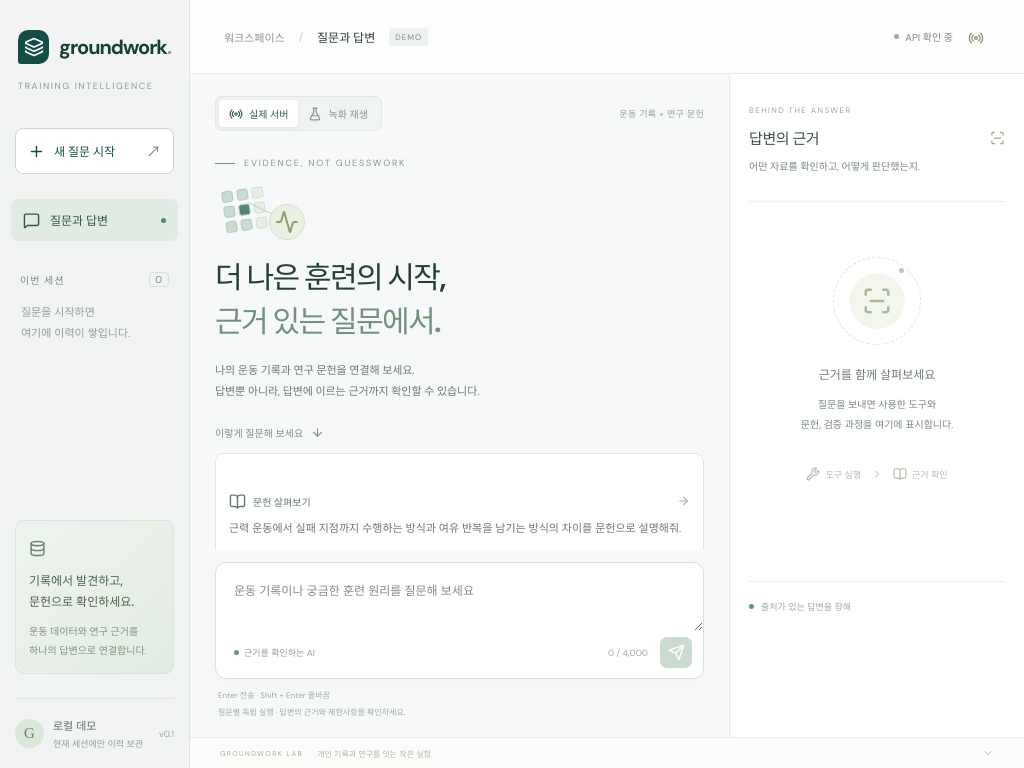
Test case: question and evidence experience › always sends query debug and presents actual response evidence without inferring parser source
Type "TEST: original question" into the text box named "질문 입력". click: x=460, y=597
box: [216,563,703,631]
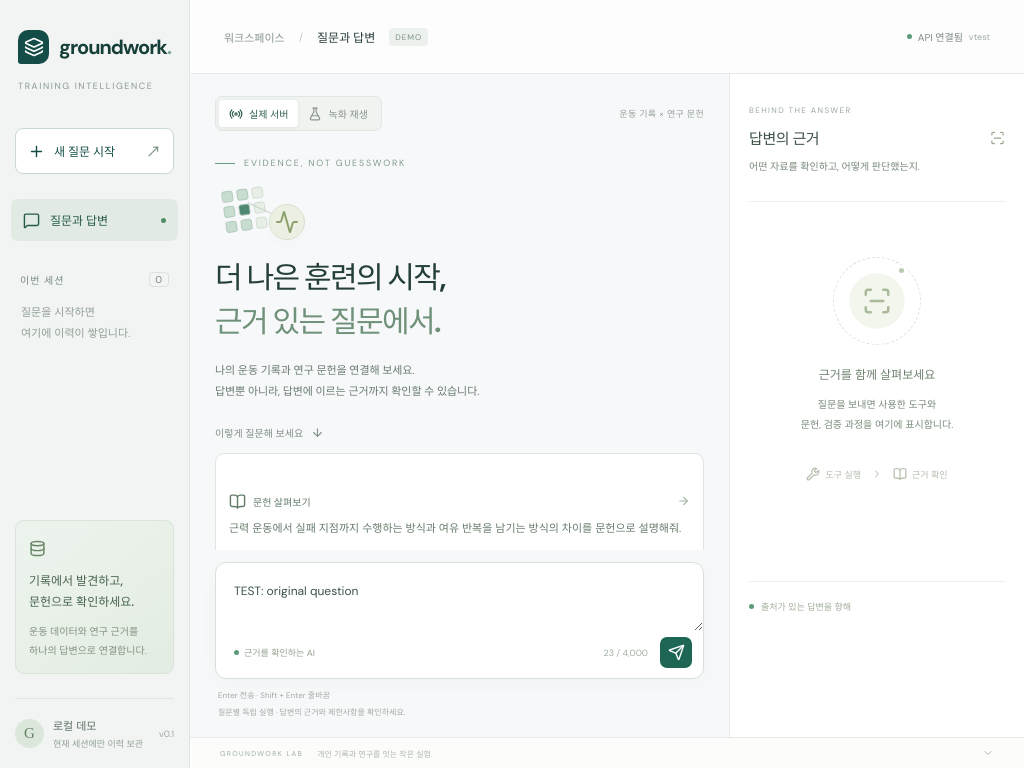
Click the button named "질문 보내기". click: x=676, y=653
box: [660,637,692,668]
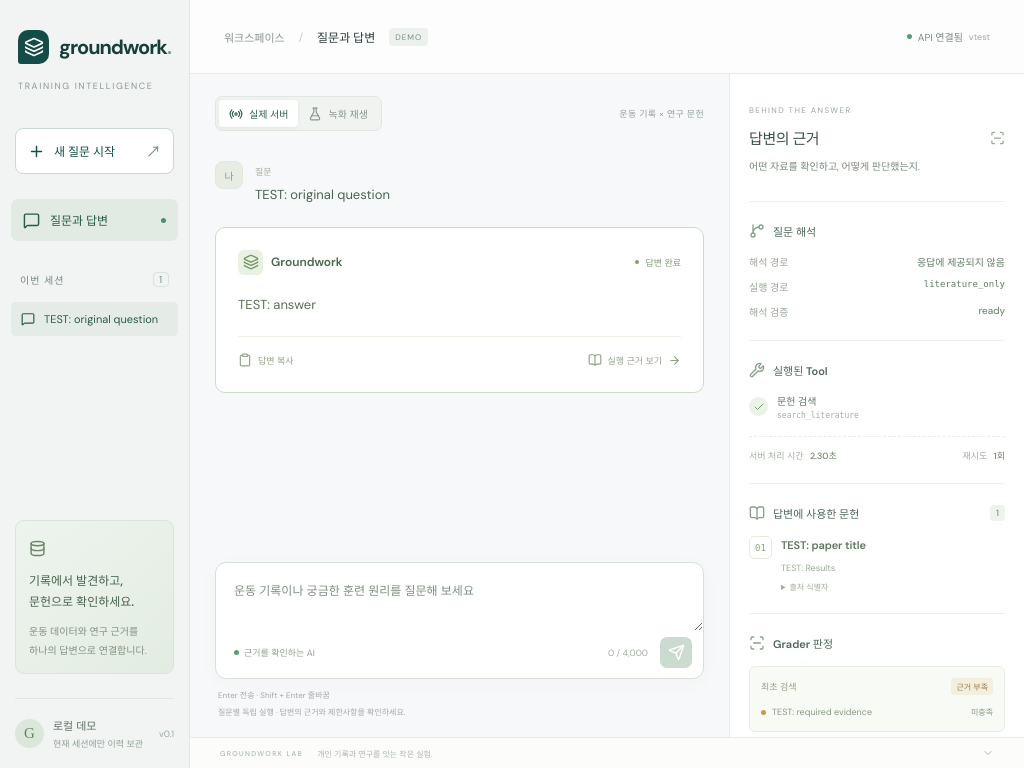
Check: the text "TEST: answer" is shown, box [238,296,316,313]
Check: the text "응답에 제공되지 않음" is shown, box [917,254,1005,269]
Check: the heading "TEST: paper title" is shown, box [781,536,866,555]
